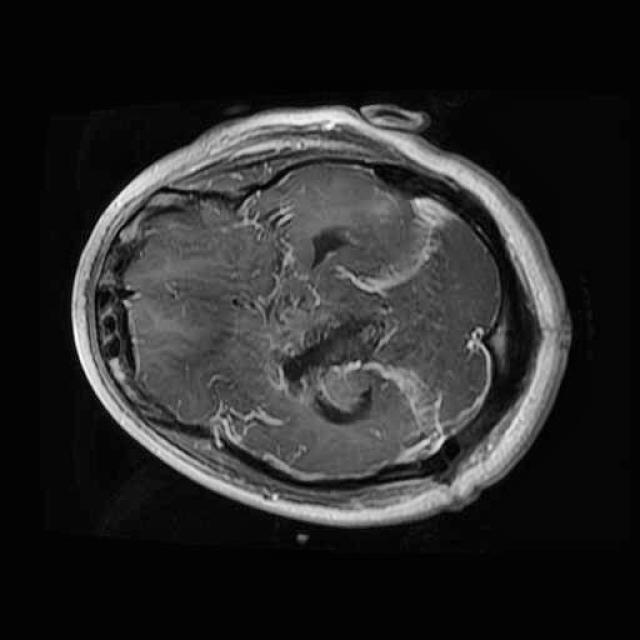Tumor: (267, 296, 402, 432)
